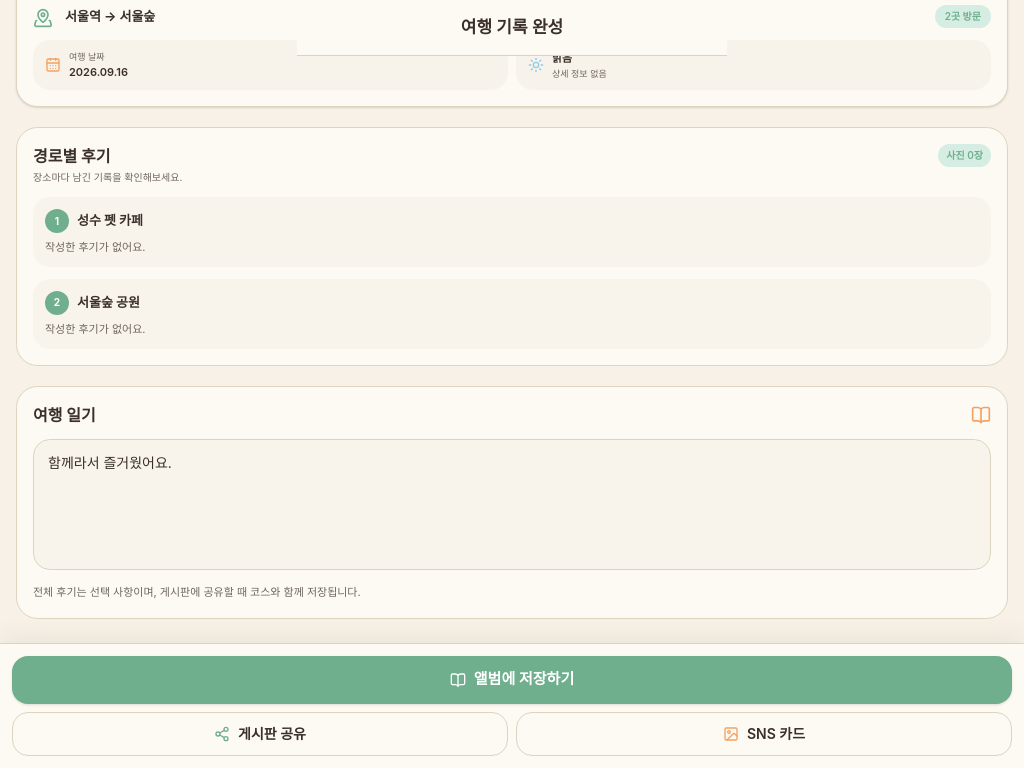
Test: TripEndScreen travel summary › shares the redesigned SNS course card through the native share sheet
(page scrolled)
Click the button "SNS 카드".
click(764, 734)  # box [516, 712, 1012, 756]
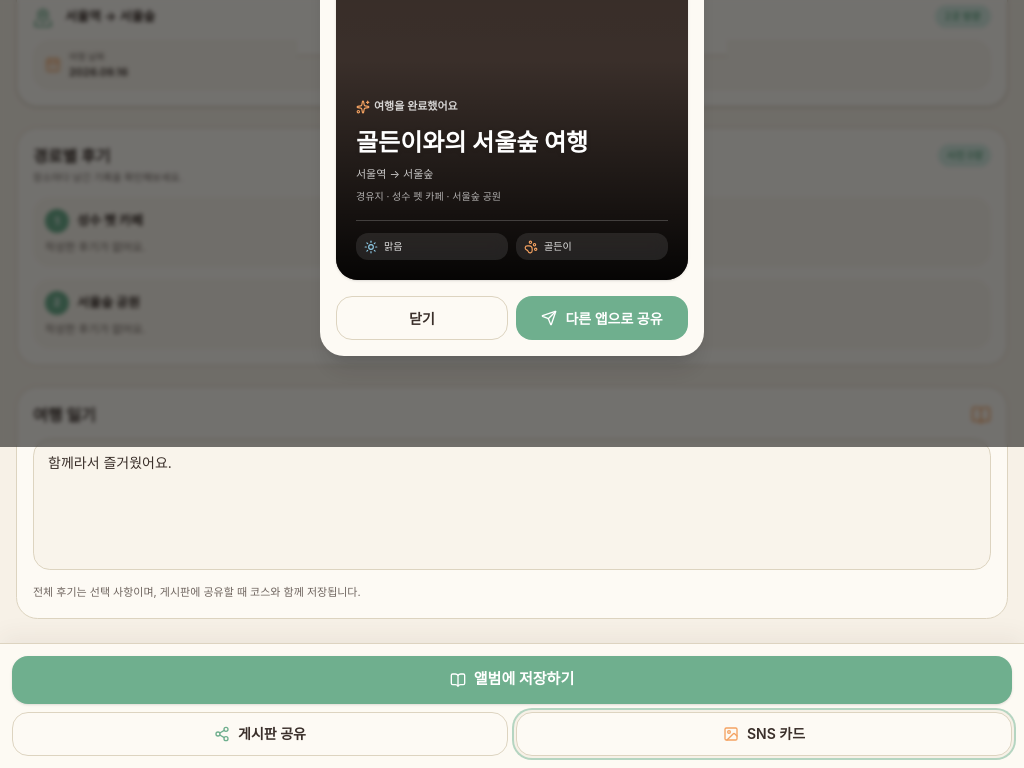
Expected: the text "경유지 · 성수 펫 카페 · 서울숲 공원" is shown, [356, 190, 501, 202]
Expected: the text "골든이" is shown, [544, 239, 572, 254]
Expected: the text "맑음" is shown, [384, 239, 402, 254]
Click the button "다른 앱으로 공유".
click(602, 318)  # box [516, 296, 688, 340]
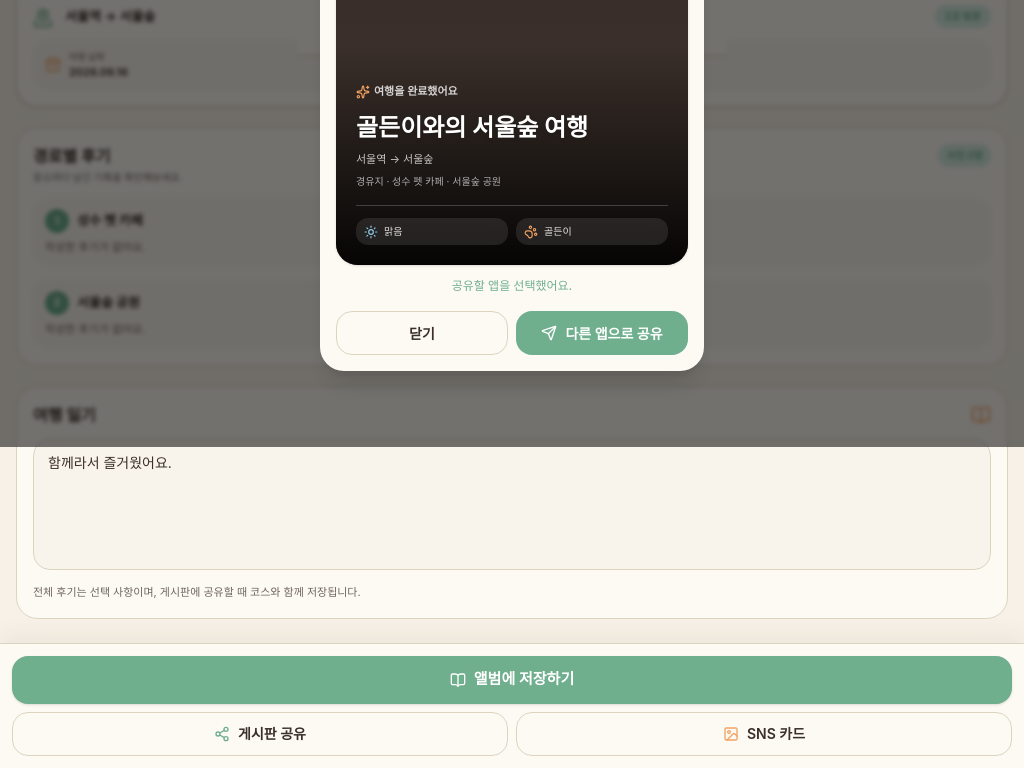
Expected: the message reads "공유할 앱을 선택했어요.", [452, 278, 572, 293]
